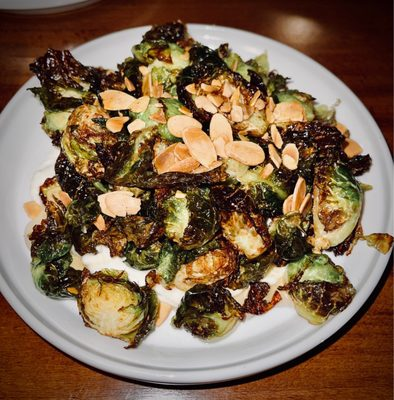curry: (2, 0, 392, 355)
sandwich: (18, 10, 390, 337)
